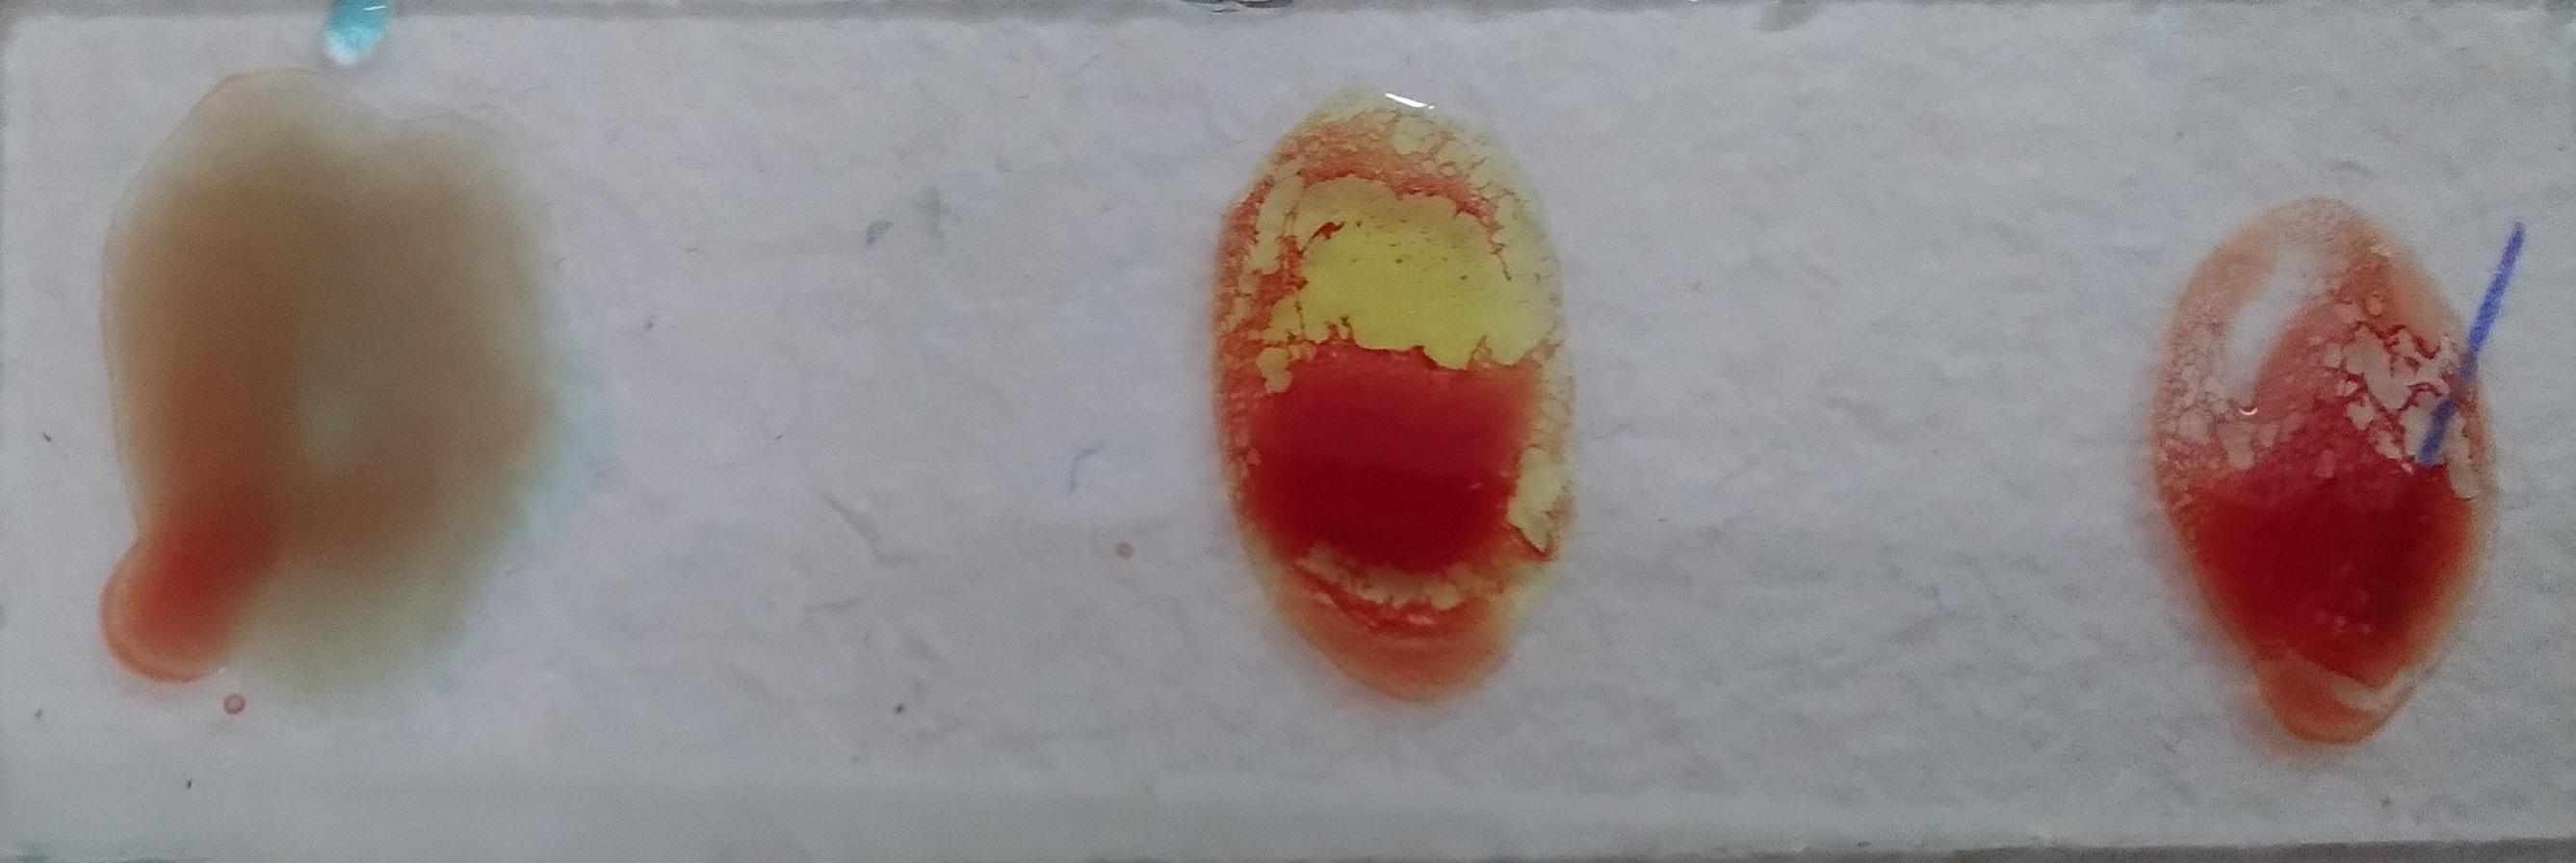B: (1007, 169, 1365, 768)
D: (89, 108, 424, 653)
